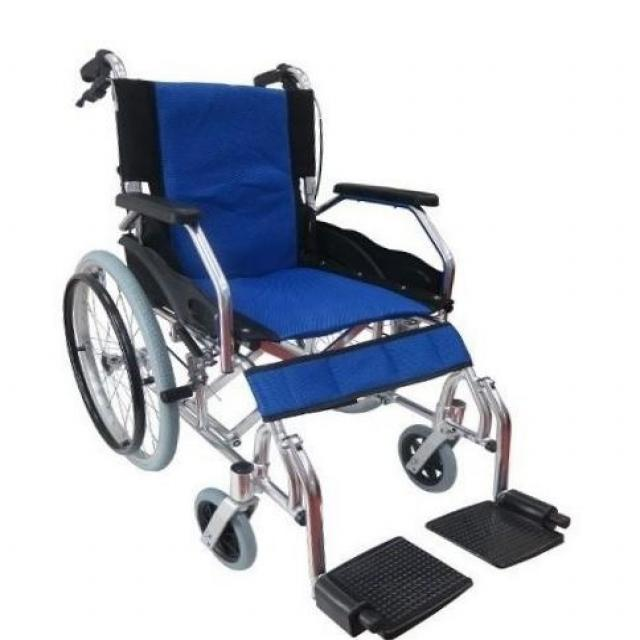wheelchair: (62, 34, 592, 640)
